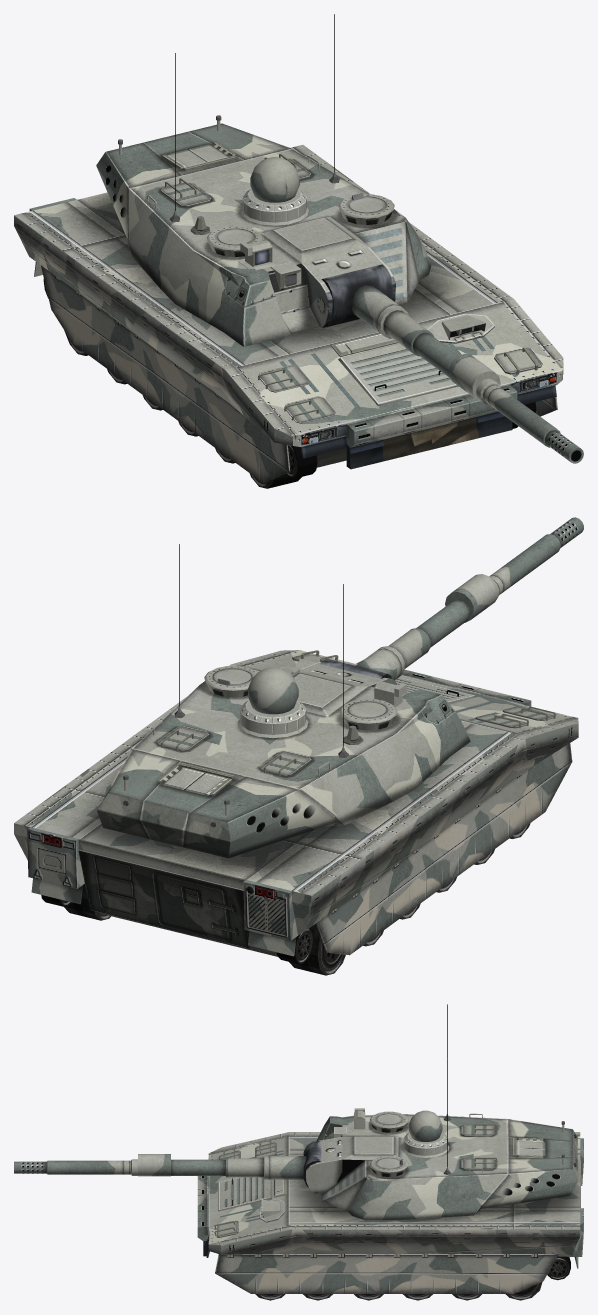
3 views of the same model, one above another, from view 1: azimuth 30°, elevation 25°; view 2: azimuth 150°, elevation 25°; view 3: azimuth 270°, elevation 25° (orthographic). The views are drawn at different scales.
Parts seen in each view (by area): view 1: headusOBJexport, Object03, Object02, Object04; view 2: headusOBJexport, Object03, Object02, Object10, Object11; view 3: headusOBJexport, Object03, Object02, Object19.
Boxes of the visible parts, x1=… form: headusOBJexport: x1=14, y1=145, x2=563, y2=482; Object03: x1=96, y1=14, x2=431, y2=346; Object02: x1=321, y1=264, x2=583, y2=463; Object04: x1=286, y1=445, x2=317, y2=478; headusOBJexport: x1=14, y1=650, x2=578, y2=956; Object03: x1=97, y1=544, x2=470, y2=858; Object02: x1=320, y1=517, x2=583, y2=680; Object10: x1=289, y1=923, x2=345, y2=975; Object11: x1=276, y1=927, x2=314, y2=964; headusOBJexport: x1=197, y1=1132, x2=583, y2=1293; Object03: x1=306, y1=1004, x2=577, y2=1219; Object02: x1=14, y1=1141, x2=321, y2=1187; Object19: x1=547, y1=1256, x2=570, y2=1280.
Bounding box in the file's own units: 1132 × 2802 × 1231.
1 material, 1 textured.
